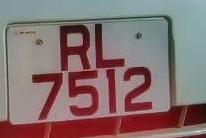1: (101, 65, 124, 118)
2: (117, 61, 159, 116)
5: (64, 65, 104, 122)
7: (27, 66, 69, 126)
L: (92, 15, 132, 73)
R: (55, 19, 101, 76)
